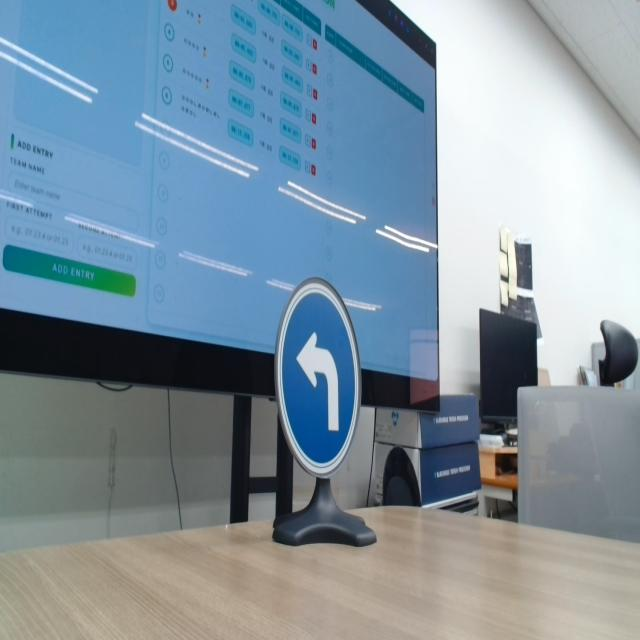left_direction: (269, 268, 376, 479)
